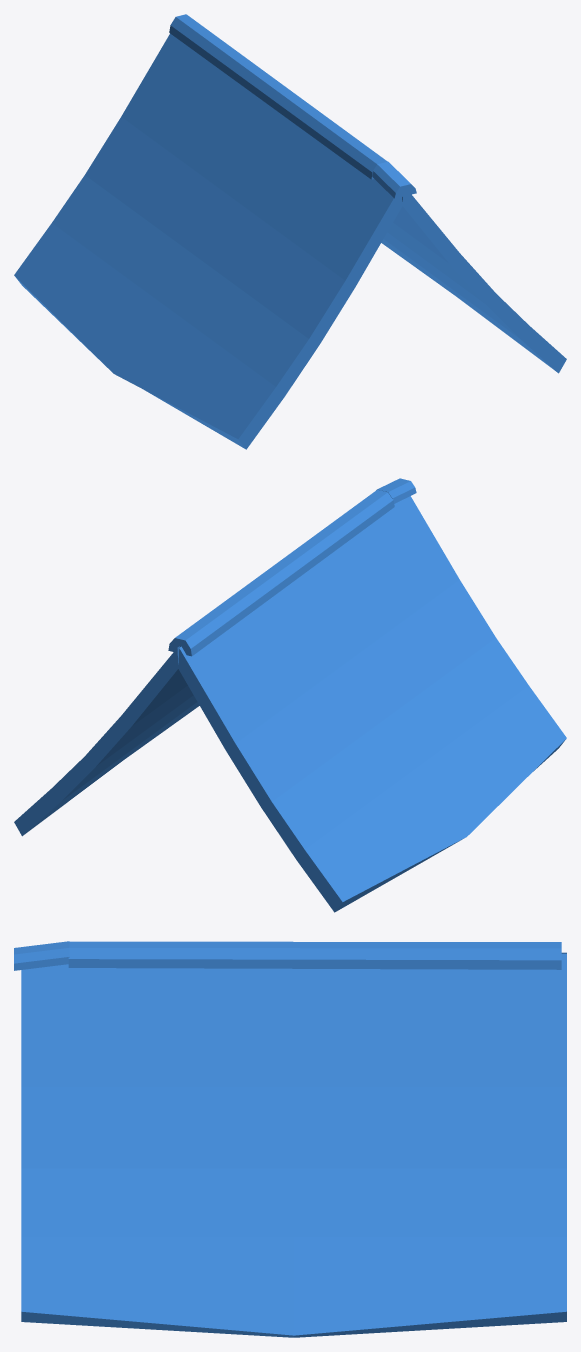
The model's file is Collision_Roof_FlatTiles_8x10.fbx.
3 views of the same model, one above another, from view 1: azimuth 30°, elevation 25°; view 2: azimuth 150°, elevation 25°; view 3: azimuth 270°, elevation 25° (orthographic). The views are drawn at different scales.
Parts seen in each view (by area): view 1: UCX_Roof_FlatTiles_8x10_01; view 2: UCX_Roof_FlatTiles_8x10_01; view 3: UCX_Roof_FlatTiles_8x10_01.
Part boxes in pixels (bbox=[...]): UCX_Roof_FlatTiles_8x10_01: bbox=[14, 14, 566, 449]; UCX_Roof_FlatTiles_8x10_01: bbox=[14, 478, 566, 912]; UCX_Roof_FlatTiles_8x10_01: bbox=[14, 941, 566, 1337].
Size of the model in its own units: 1070 by 701 by 1192.
